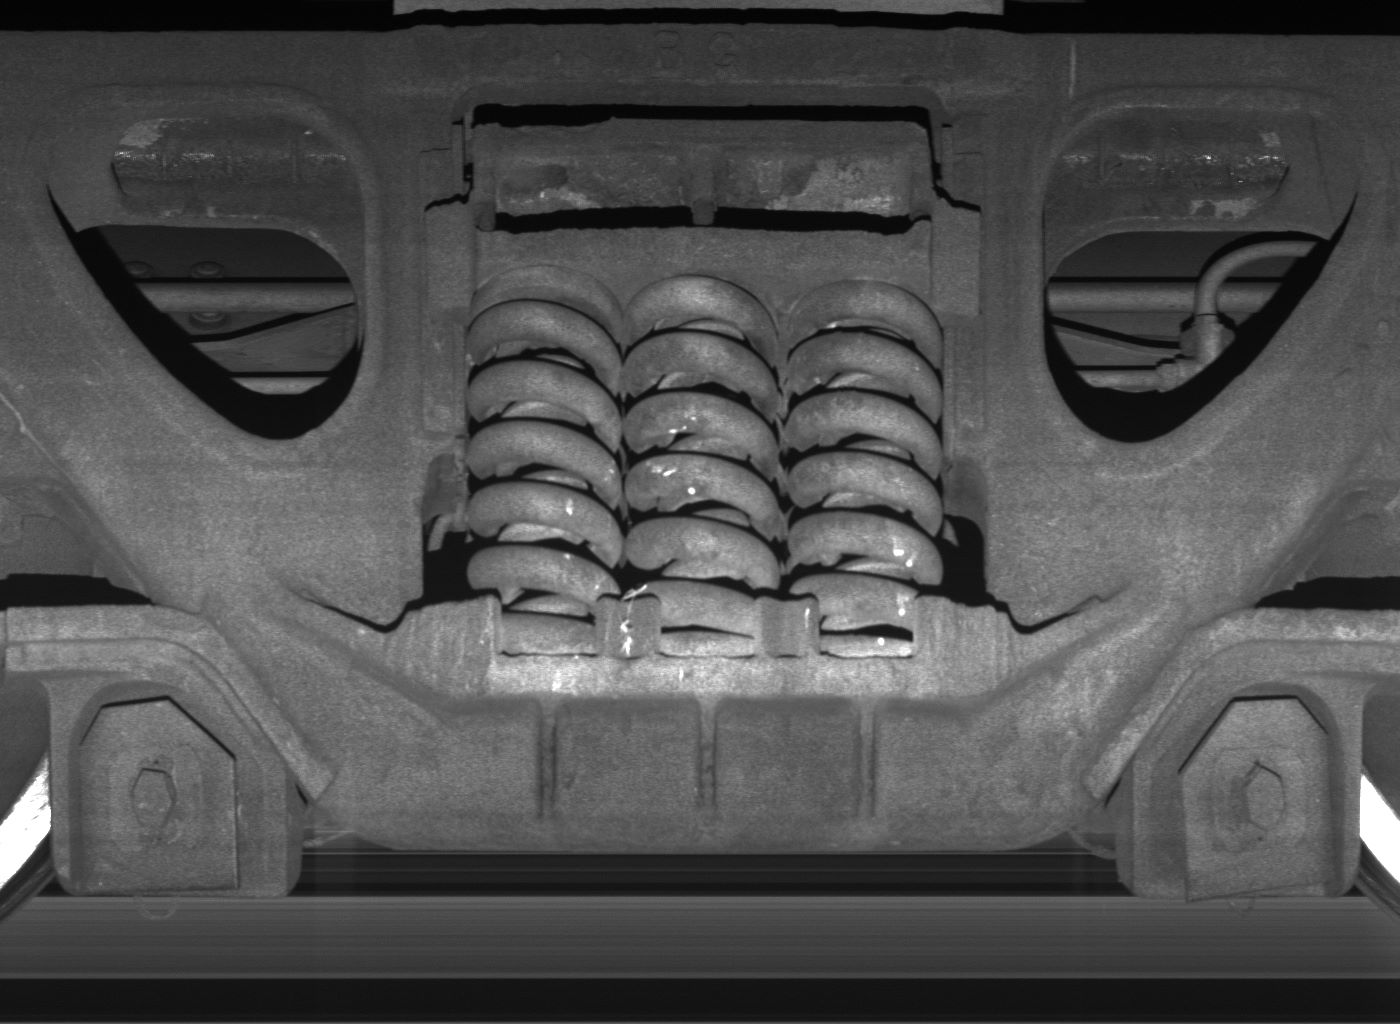Locking plate: (1143, 677, 1360, 902)
normal: (50, 677, 285, 896)
